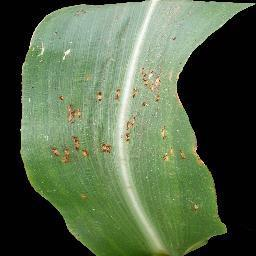Corn_Common_Rust: (47, 134, 92, 167), (158, 121, 189, 167), (138, 66, 166, 109), (189, 130, 210, 172), (167, 62, 188, 103), (124, 111, 143, 146), (25, 38, 48, 63), (93, 87, 122, 105), (63, 4, 95, 19), (63, 103, 84, 125), (61, 37, 74, 66), (191, 198, 201, 218), (100, 142, 113, 155), (131, 85, 139, 102), (167, 31, 179, 42), (54, 94, 66, 101), (49, 29, 59, 37)
